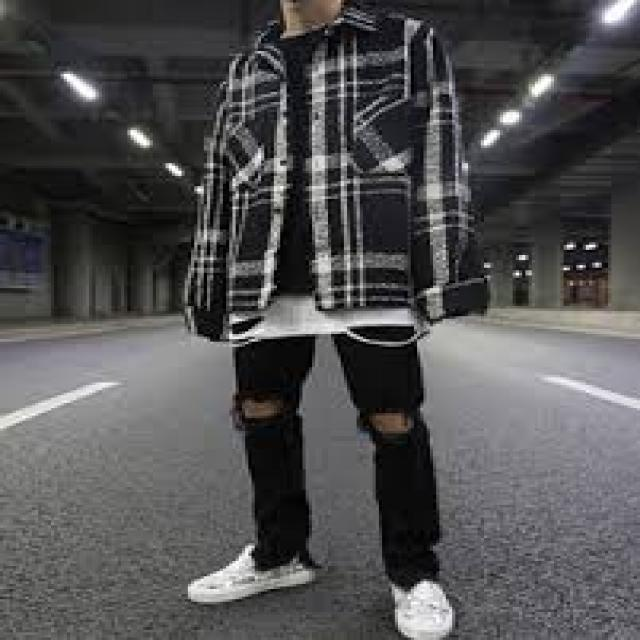plaid: (190, 18, 488, 320)
